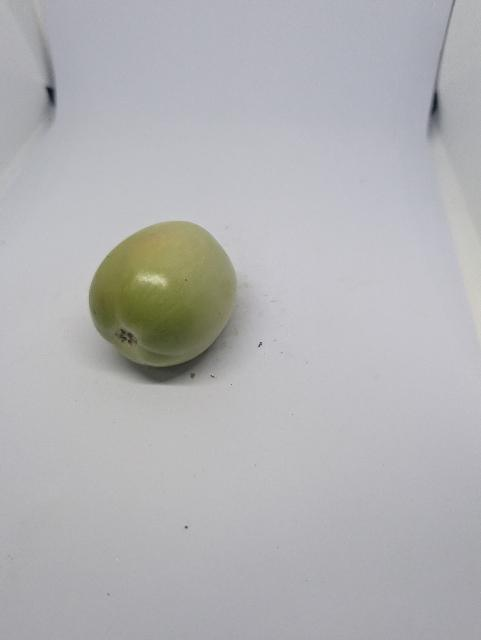green: (82, 203, 257, 393)
